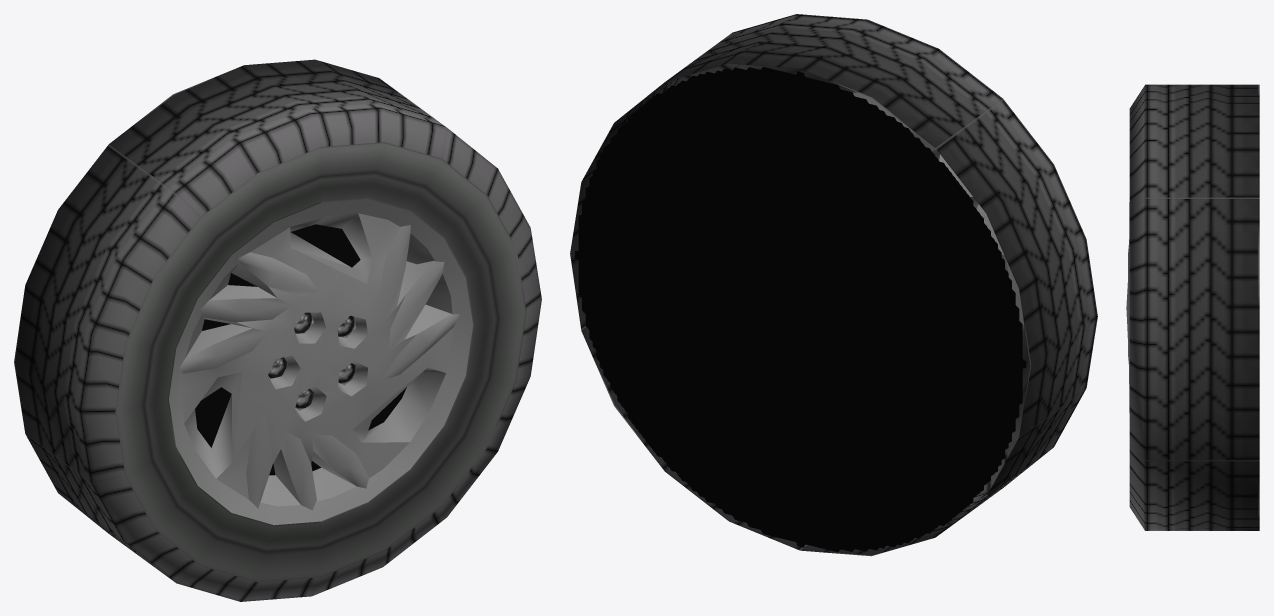
Rendered from tire_r.fbx.
The picture shows the model from 3 angles, left to right: view 1: azimuth 30°, elevation 25°; view 2: azimuth 150°, elevation 25°; view 3: azimuth 270°, elevation 25°; orthographic projection. The views are drawn at different scales.
Visible parts, largest first — view 1: KIT00_WHEEL_A.001; view 2: KIT00_WHEEL_A.001; view 3: KIT00_WHEEL_A.001.
Boxes of the visible parts, x1,y1,x2,y2 form: KIT00_WHEEL_A.001: (14,59,541,601); KIT00_WHEEL_A.001: (570,14,1097,556); KIT00_WHEEL_A.001: (1126,84,1259,530).
Size of the model in its own units: 60.17 by 60.17 by 17.82.
